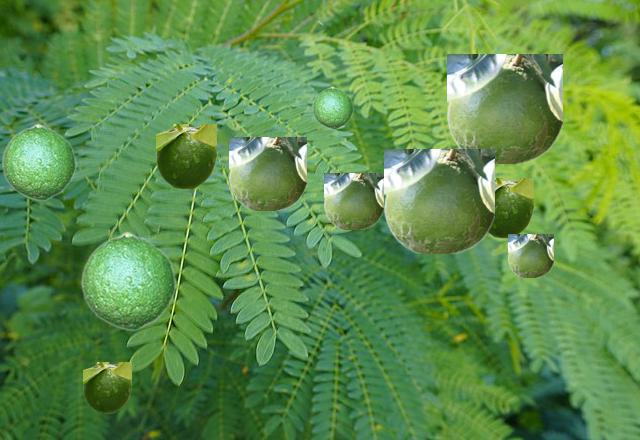dalandan: (447, 54, 561, 162), (384, 149, 493, 252), (80, 231, 175, 330), (1, 123, 75, 200), (229, 137, 305, 209), (156, 124, 215, 188), (324, 173, 382, 228), (489, 178, 532, 237), (83, 362, 130, 412), (508, 234, 552, 276), (312, 86, 352, 128)
